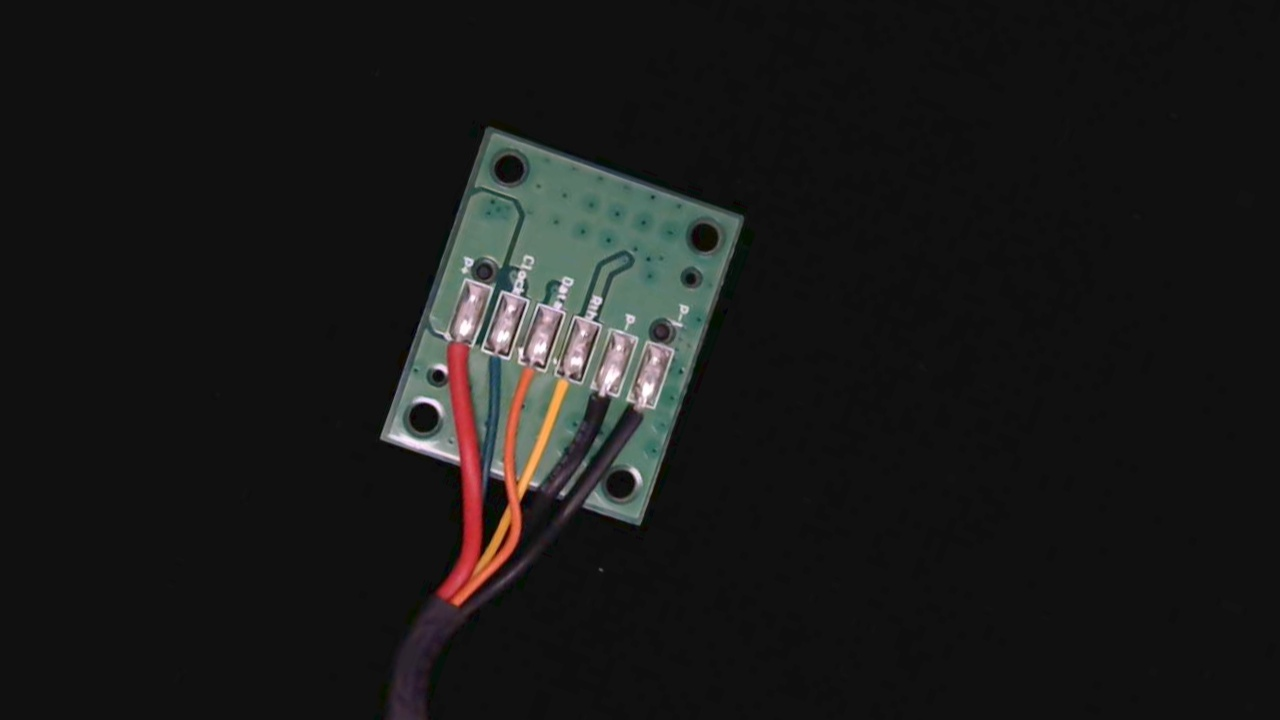Black: (566, 370, 624, 450)
Black1: (608, 385, 662, 460)
Green: (468, 331, 518, 396)
Orange: (497, 344, 552, 423)
Red: (424, 318, 480, 396)
Yellow: (530, 357, 588, 438)
